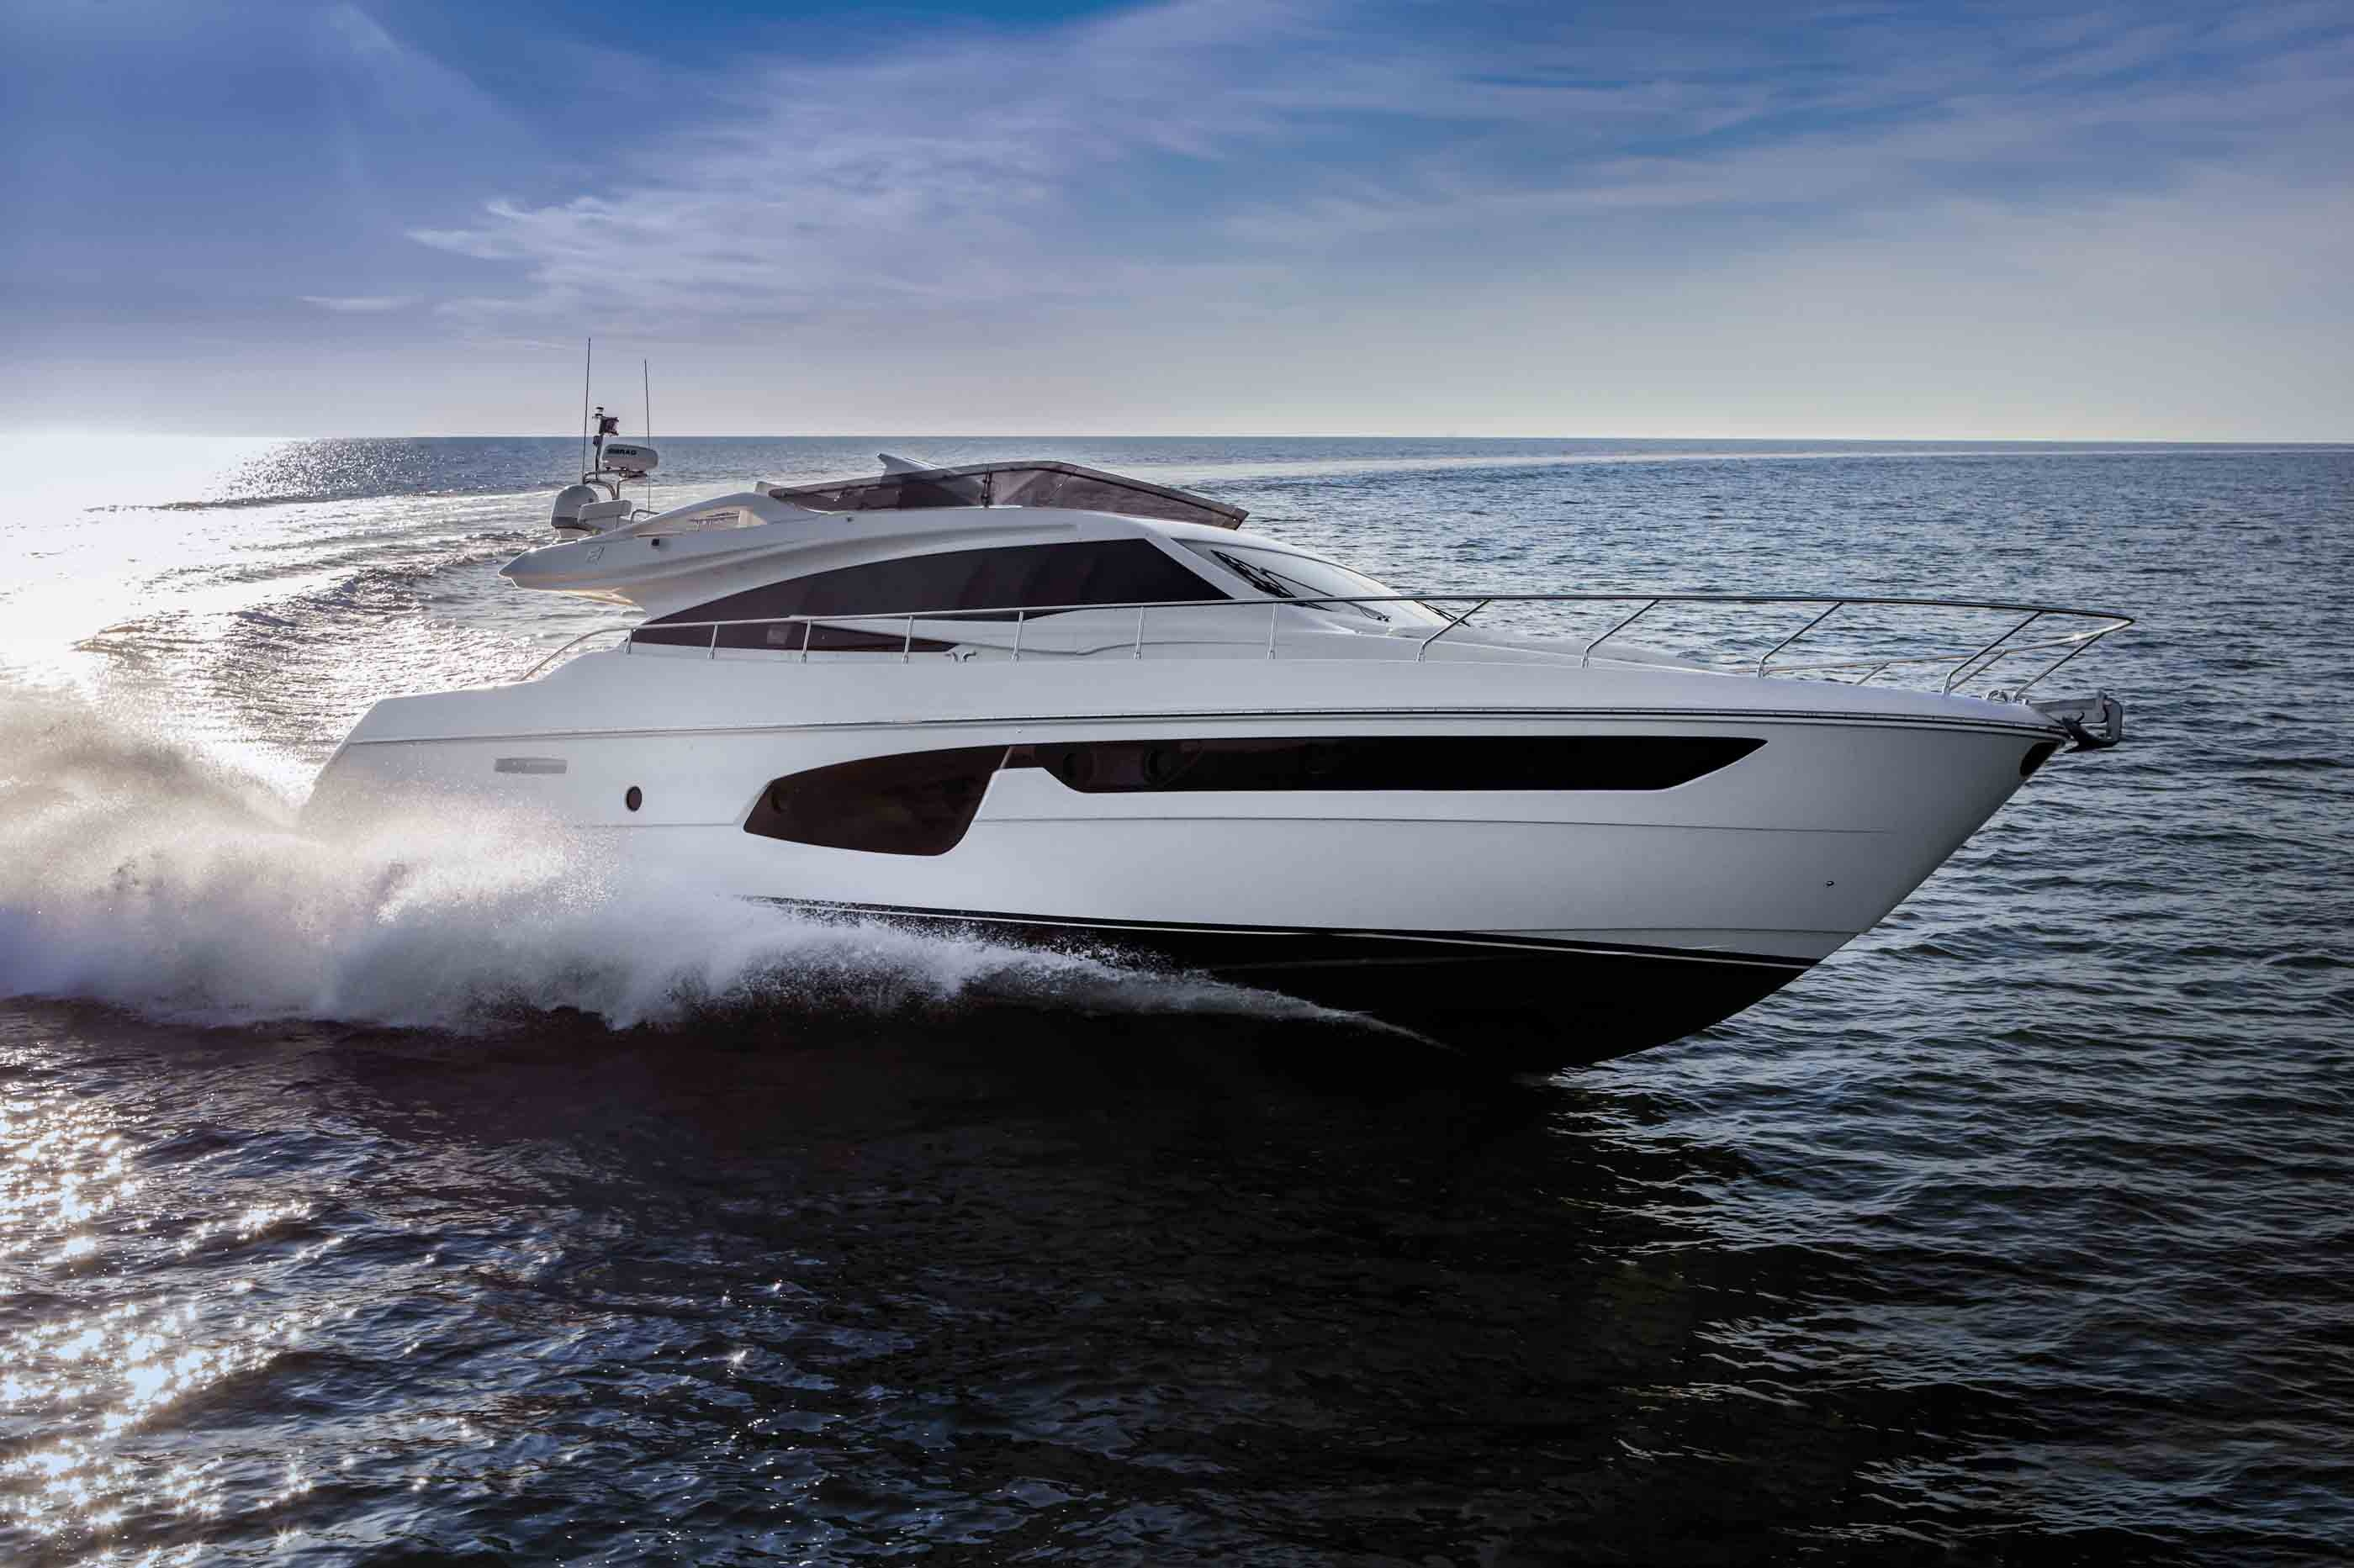yacht: (222, 352, 2149, 1027)
